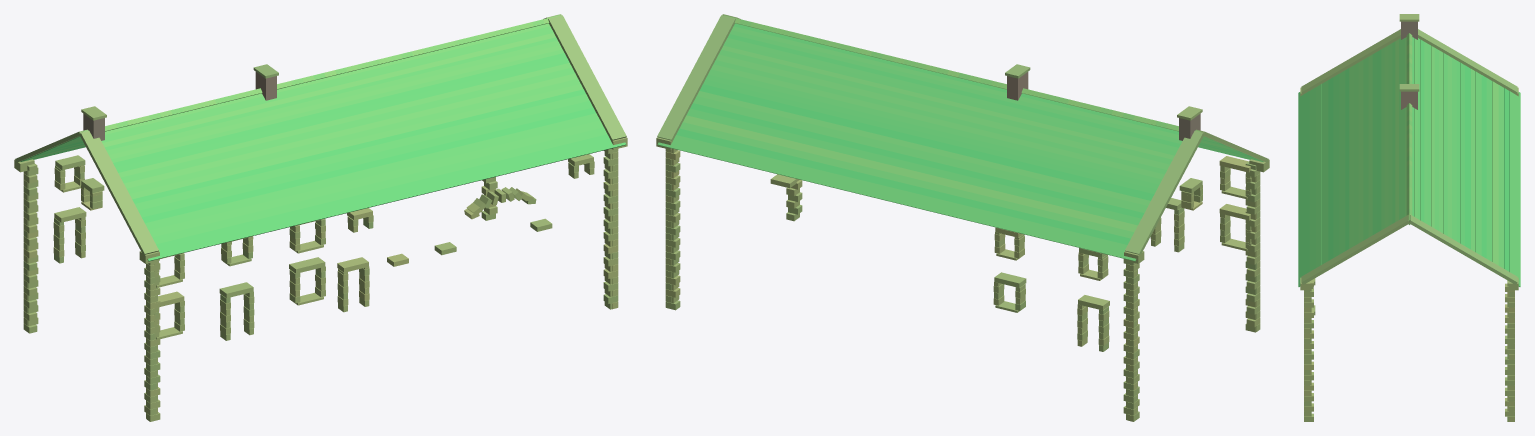
File: SM_Bld_219_Stone.glb
3 views of the same model, side by side, from view 1: azimuth 30°, elevation 25°; view 2: azimuth 150°, elevation 25°; view 3: azimuth 270°, elevation 25° (orthographic). The views are drawn at different scales.
Visible parts, largest first — view 1: SM_Bld_219_Stone; view 2: SM_Bld_219_Stone; view 3: SM_Bld_219_Stone.
Boxes of the visible parts, box(x1,y1,x2,y2) form: SM_Bld_219_Stone: box(14, 14, 627, 421); SM_Bld_219_Stone: box(656, 14, 1269, 421); SM_Bld_219_Stone: box(1298, 14, 1520, 421).
Size of the model in its own units: 24.21 by 12.56 by 11.6.
